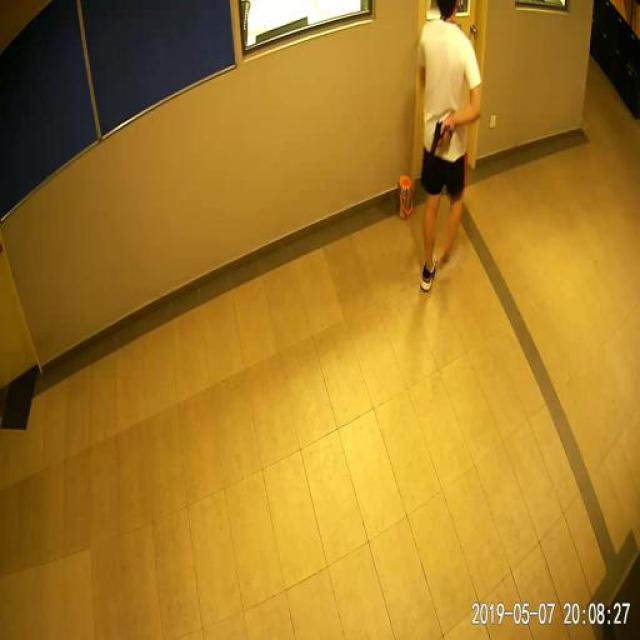Gun: (427, 117, 462, 165)
